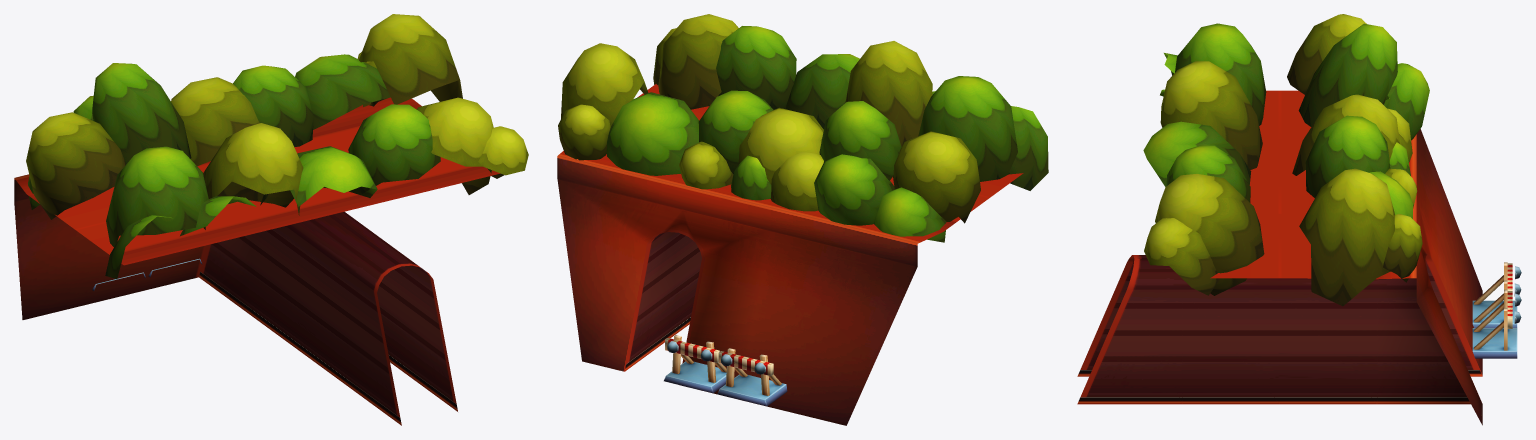
Rendered from tunnel_1.glb.
3 views of the same model, side by side, from view 1: azimuth 30°, elevation 25°; view 2: azimuth 150°, elevation 25°; view 3: azimuth 270°, elevation 25° (orthographic). The views are drawn at different scales.
Parts seen in each view (by area): view 1: Object_2; view 2: Object_2; view 3: Object_2.
Boxes of the visible parts, <box> form: Object_2: <box>14,14,528,425</box>; Object_2: <box>557,14,1048,425</box>; Object_2: <box>1077,14,1521,425</box>.
Bounding box in the file's own units: 152 × 96.9 × 137.
Materials: 1 (1 with a texture image).
